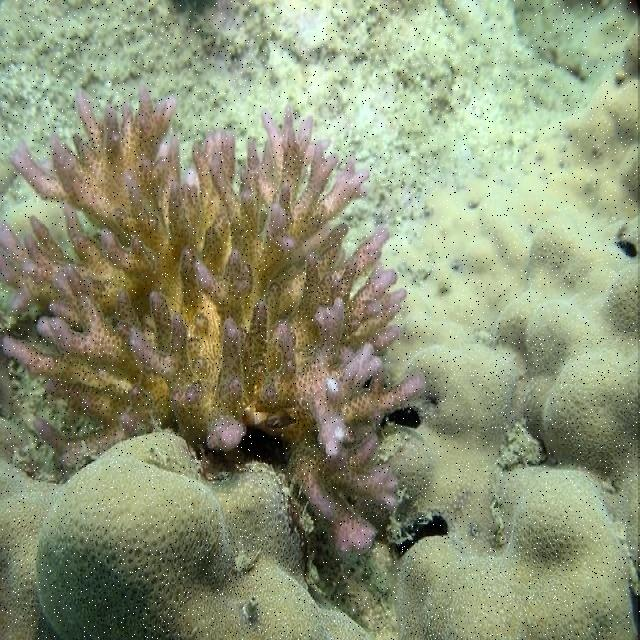reefs: (0, 86, 425, 555), (353, 22, 639, 638), (0, 358, 372, 639)
